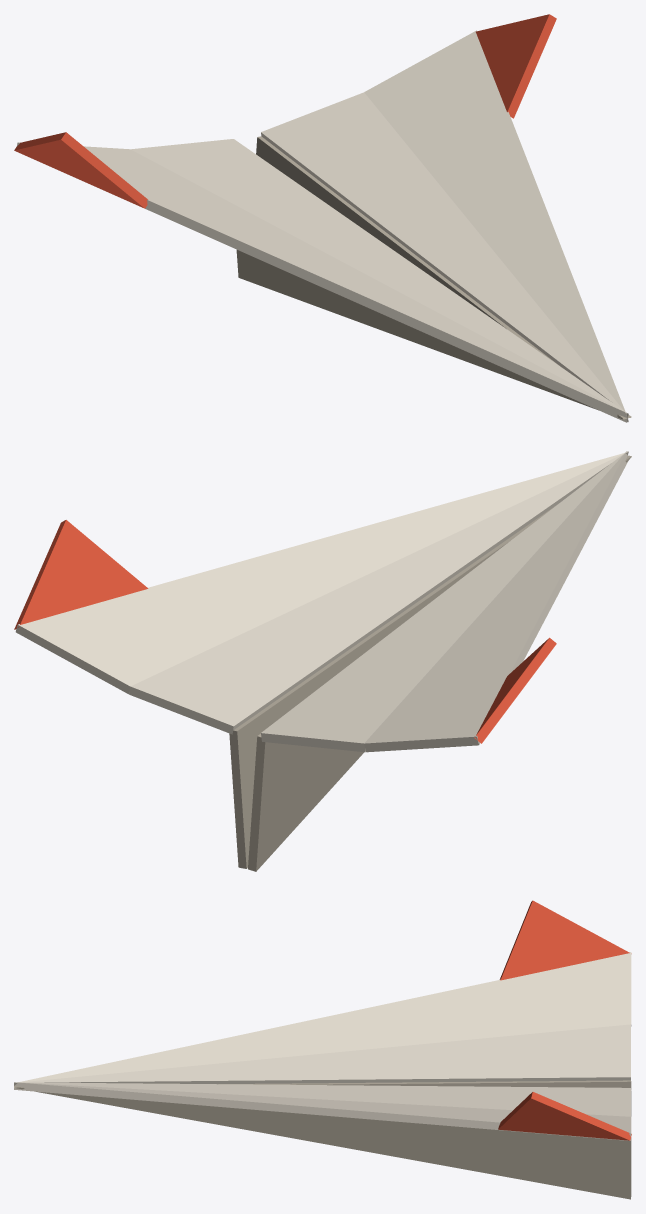
Rendered from paper_plane.glb.
The picture shows the model from 3 angles, top to bottom: view 1: azimuth 30°, elevation 25°; view 2: azimuth 150°, elevation 25°; view 3: azimuth 270°, elevation 25°; orthographic projection. The views are drawn at different scales.
Visible parts, largest first — view 1: wing_outer_right, wing_inner_right, wing_outer_left, wing_inner_left, keel_left, winglet_right, keel_right, winglet_left; view 2: wing_outer_right, wing_inner_right, wing_outer_left, wing_inner_left, keel_left, winglet_right, keel_right, winglet_left; view 3: wing_outer_left, wing_inner_left, keel_right, wing_inner_right, wing_outer_right, winglet_left, winglet_right, keel_left.
Boxes of the visible parts, left/top/right/bottom form: wing_outer_right: left=364, top=30, right=628, bottom=421; wing_inner_right: left=261, top=92, right=628, bottom=421; wing_outer_left: left=16, top=142, right=628, bottom=422; wing_inner_left: left=131, top=139, right=628, bottom=422; keel_left: left=236, top=250, right=631, bottom=419; winglet_right: left=476, top=14, right=556, bottom=118; keel_right: left=256, top=136, right=631, bottom=418; winglet_left: left=14, top=132, right=147, bottom=208; wing_outer_right: left=15, top=451, right=628, bottom=694; wing_inner_right: left=129, top=451, right=628, bottom=734; wing_outer_left: left=364, top=451, right=628, bottom=752; wing_inner_left: left=261, top=451, right=627, bottom=752; keel_left: left=248, top=456, right=631, bottom=871; winglet_right: left=14, top=520, right=148, bottom=629; keel_right: left=229, top=455, right=631, bottom=868; winglet_left: left=474, top=637, right=556, bottom=743; wing_outer_left: left=14, top=952, right=631, bottom=1085; wing_inner_left: left=14, top=1024, right=630, bottom=1084; keel_right: left=14, top=1087, right=631, bottom=1199; wing_inner_right: left=14, top=1082, right=630, bottom=1116; wing_outer_right: left=14, top=1082, right=631, bottom=1140; winglet_left: left=499, top=900, right=631, bottom=980; winglet_right: left=498, top=1092, right=631, bottom=1140; keel_left: left=14, top=1080, right=631, bottom=1089.
Bounding box in the file's own units: 0.2107 × 0.1002 × 0.2804.
